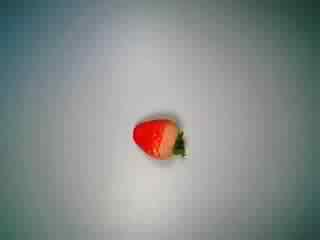strawberry: (126, 107, 194, 171)
